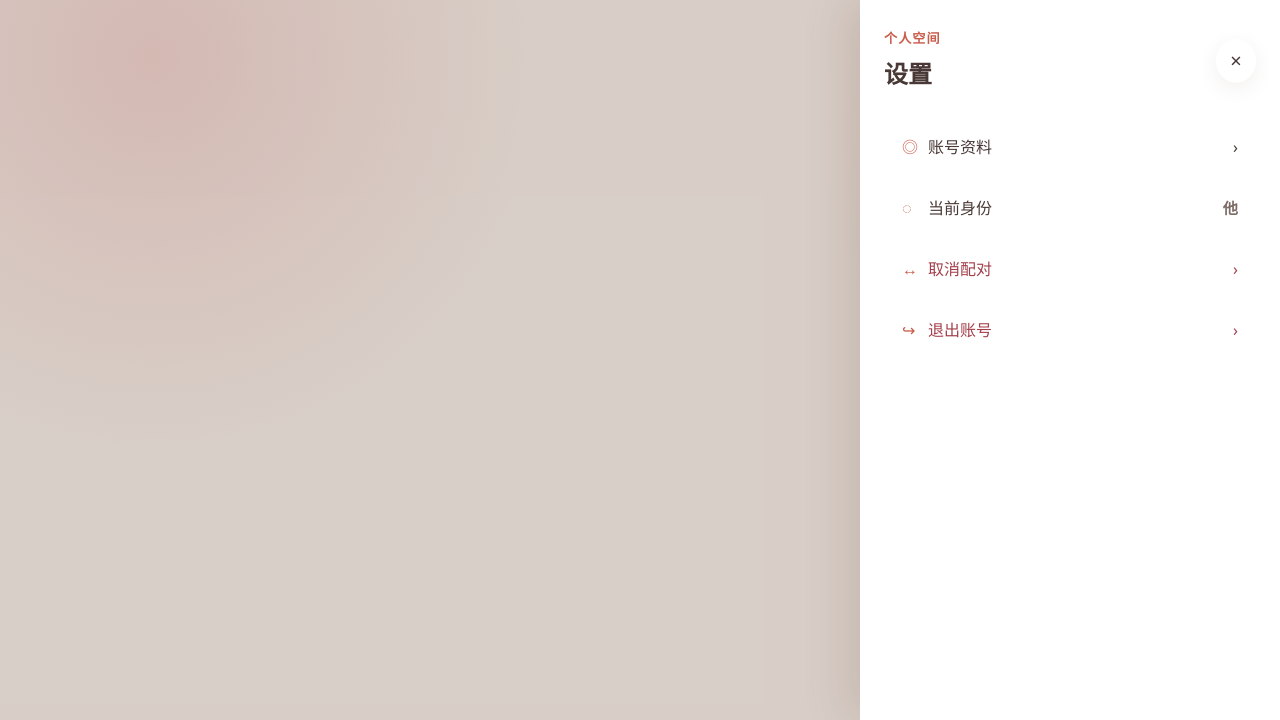
Test: keeps account profile collapsed until selected
Expected: the text "账号资料" is shown, [928,136,992,158]
Expected: the text "用户名" is not shown
Step 1. Click the button "◎ 账号资料 ›" → (960, 147), box [884,117,1256,177]
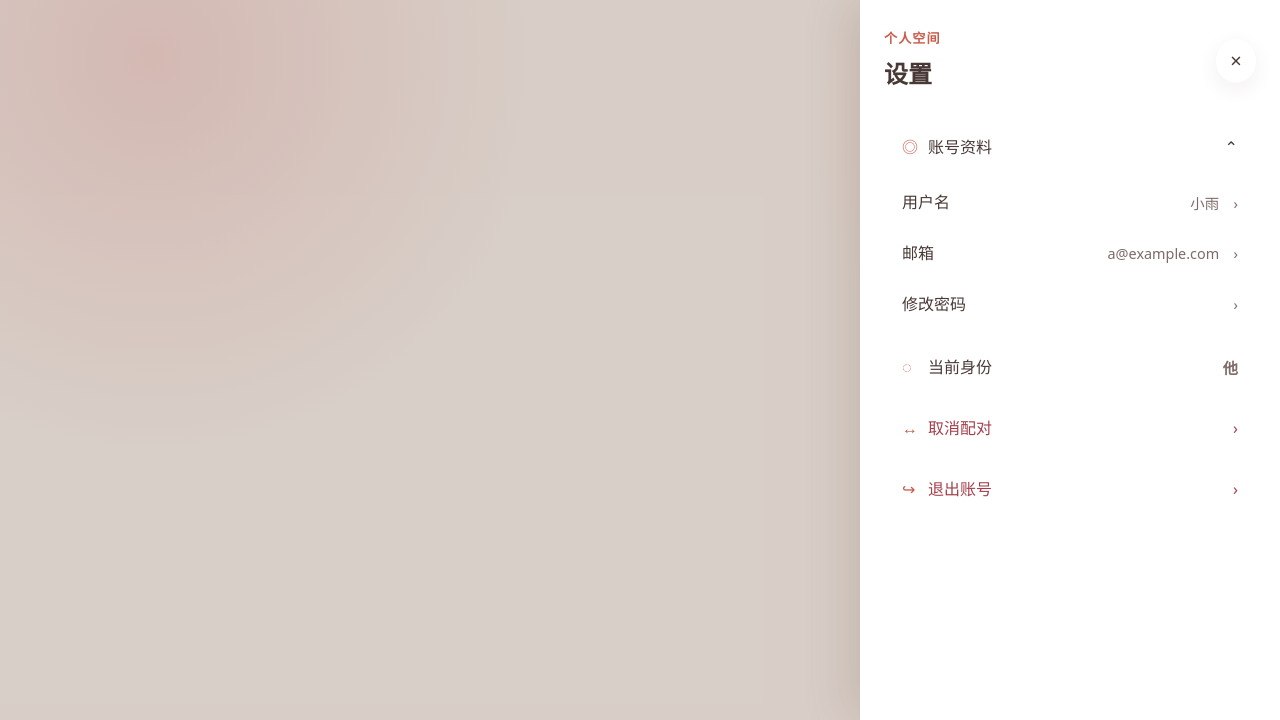
Result: the text "用户名" is shown at [902,190,950,216]
Result: the text "邮箱" is shown at [902,241,934,267]
Result: the text "修改密码" is shown at [902,292,966,317]
